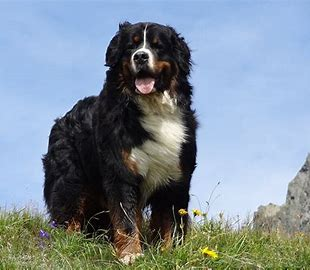dog: (29, 15, 204, 258)
